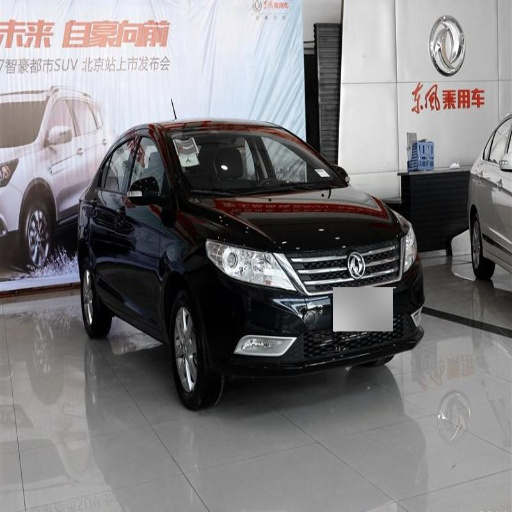front_bumper: (199, 236, 421, 375)
front_glass: (170, 134, 338, 194)
front_left_door: (46, 93, 81, 159)
front_right_door: (121, 128, 169, 320)
front_right_light: (206, 235, 294, 292)
